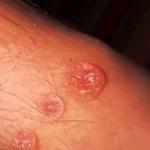Ants: (63, 58, 108, 102), (33, 87, 70, 124), (12, 128, 38, 149)
